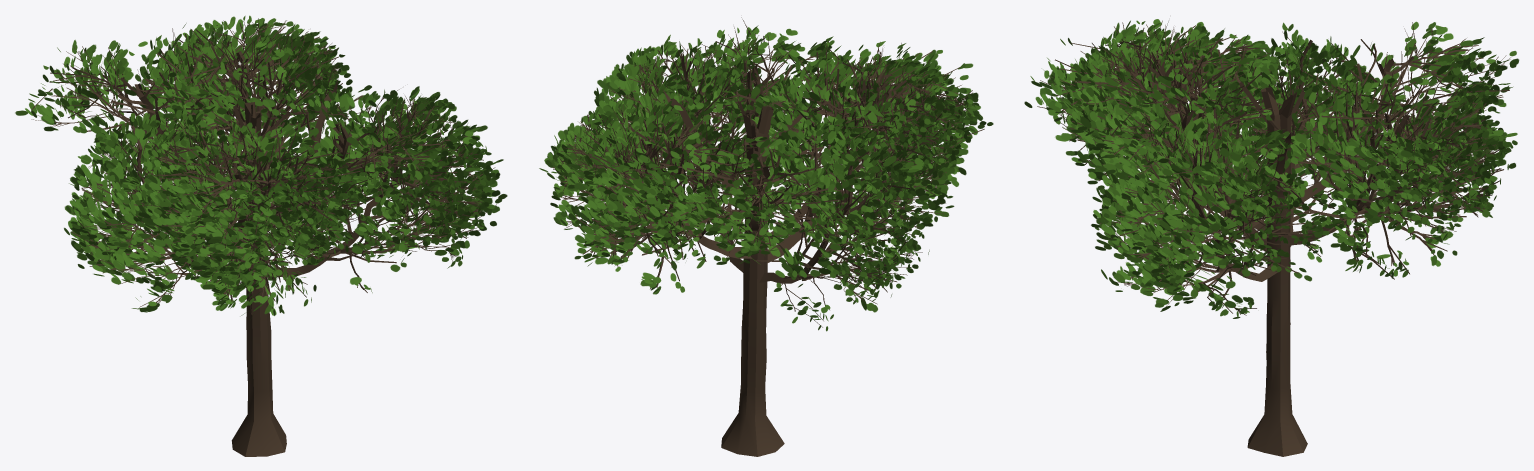
3 renders of one model, left to right at view 1: azimuth 30°, elevation 25°; view 2: azimuth 150°, elevation 25°; view 3: azimuth 270°, elevation 25°, orthographic. The views are drawn at different scales.
Parts seen in each view (by area): view 1: oak 01.001_trunk_Mat.001_0.089; view 2: oak 01.001_trunk_Mat.001_0.089; view 3: oak 01.001_trunk_Mat.001_0.089.
Boxes of the visible parts, x1,y1,x2,y2 form: oak 01.001_trunk_Mat.001_0.089: (15, 15, 507, 456); oak 01.001_trunk_Mat.001_0.089: (539, 17, 993, 456); oak 01.001_trunk_Mat.001_0.089: (1024, 19, 1519, 456).
Size of the model in its own units: 5.27 by 4.75 by 5.75.
2 materials, 1 textured.
